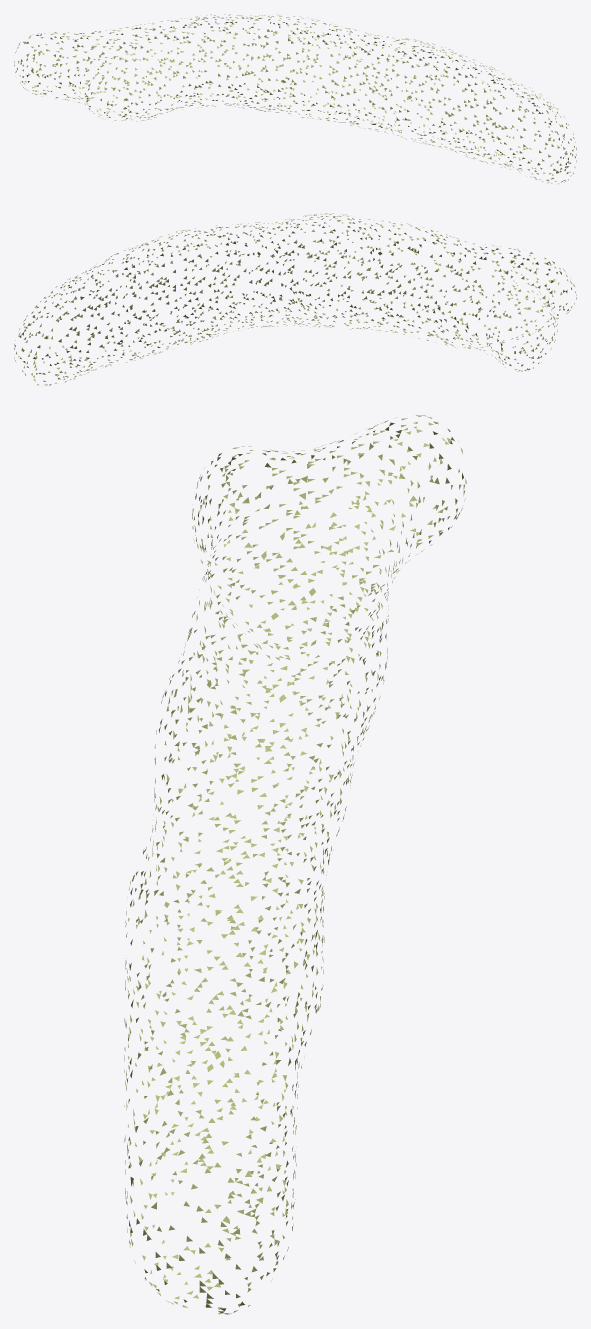
The model's file is morph_010.glb.
3 views of the same model, one above another, from view 1: azimuth 30°, elevation 25°; view 2: azimuth 150°, elevation 25°; view 3: azimuth 270°, elevation 25° (orthographic). The views are drawn at different scales.
Size of the model in its own units: 121 by 51.31 by 35.53.
